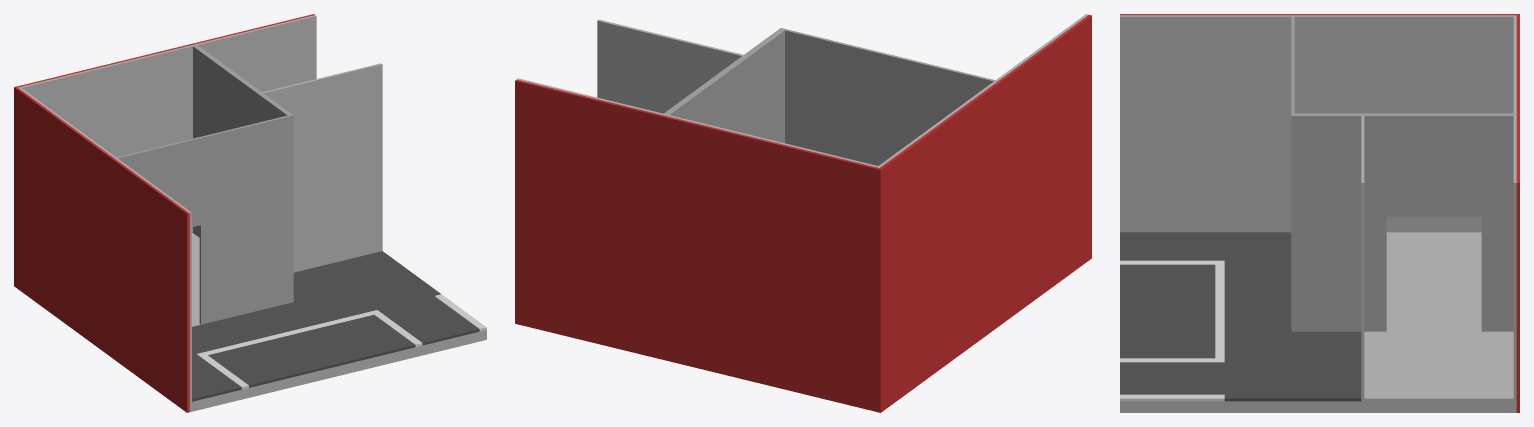
The model's file is 4x2 first-0.obj.
3 views of the same model, side by side, from view 1: azimuth 30°, elevation 25°; view 2: azimuth 150°, elevation 25°; view 3: azimuth 270°, elevation 25° (orthographic). The views are drawn at different scales.
Parts seen in each view (by area): view 1: 4x2 first-0; view 2: 4x2 first-0; view 3: 4x2 first-0.
Boxes of the visible parts, bbox=[...] form: 4x2 first-0: bbox=[14, 14, 486, 412]; 4x2 first-0: bbox=[515, 14, 1091, 412]; 4x2 first-0: bbox=[1120, 14, 1519, 412].
Bounding box in the file's own units: 126 × 80 × 126.
Materials: 1 (1 with a texture image).
